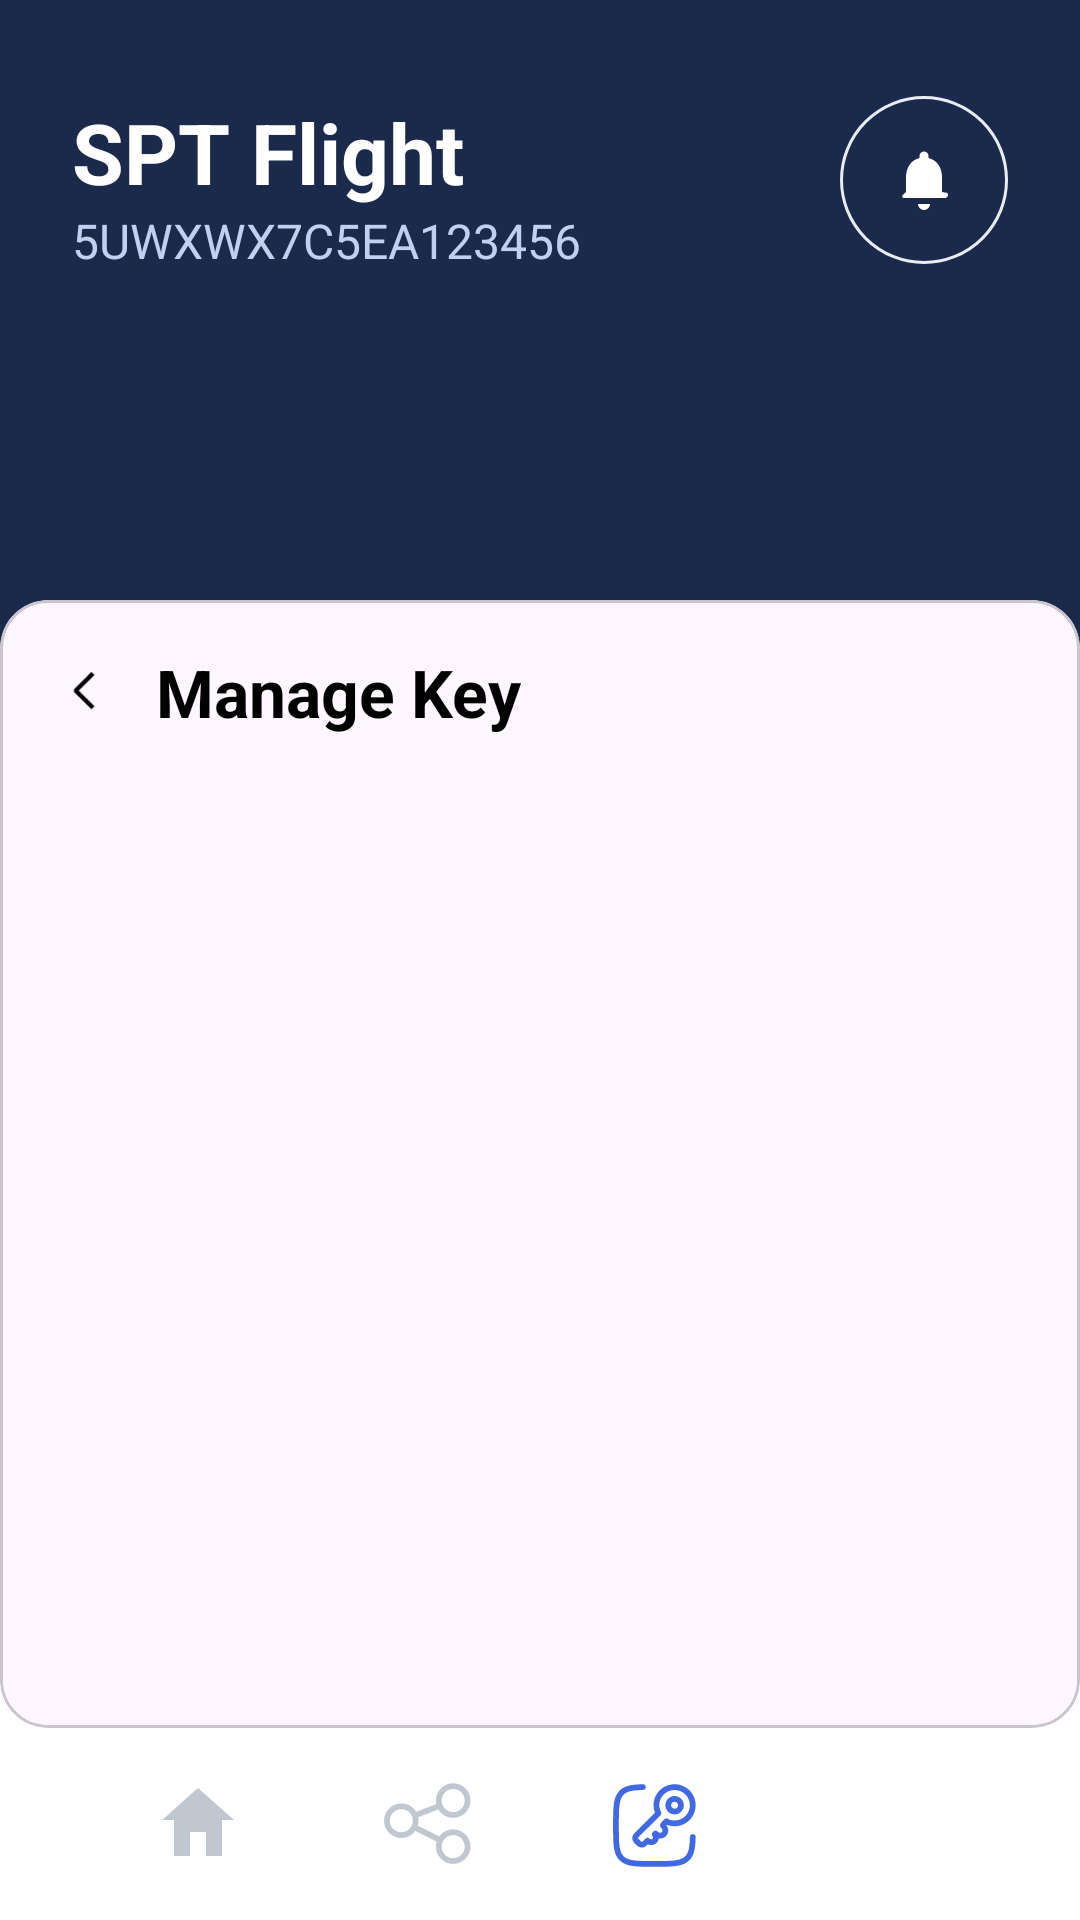

Locate icon controls on the screen. Image size 1080px×1920px, boxes as (x1, y1, x2, y2).
Back: (73, 672, 95, 709)
Home: (162, 1788, 234, 1856)
Keys: (613, 1784, 696, 1867)
Notifications: (902, 151, 948, 210)
Share: (384, 1783, 471, 1864)
